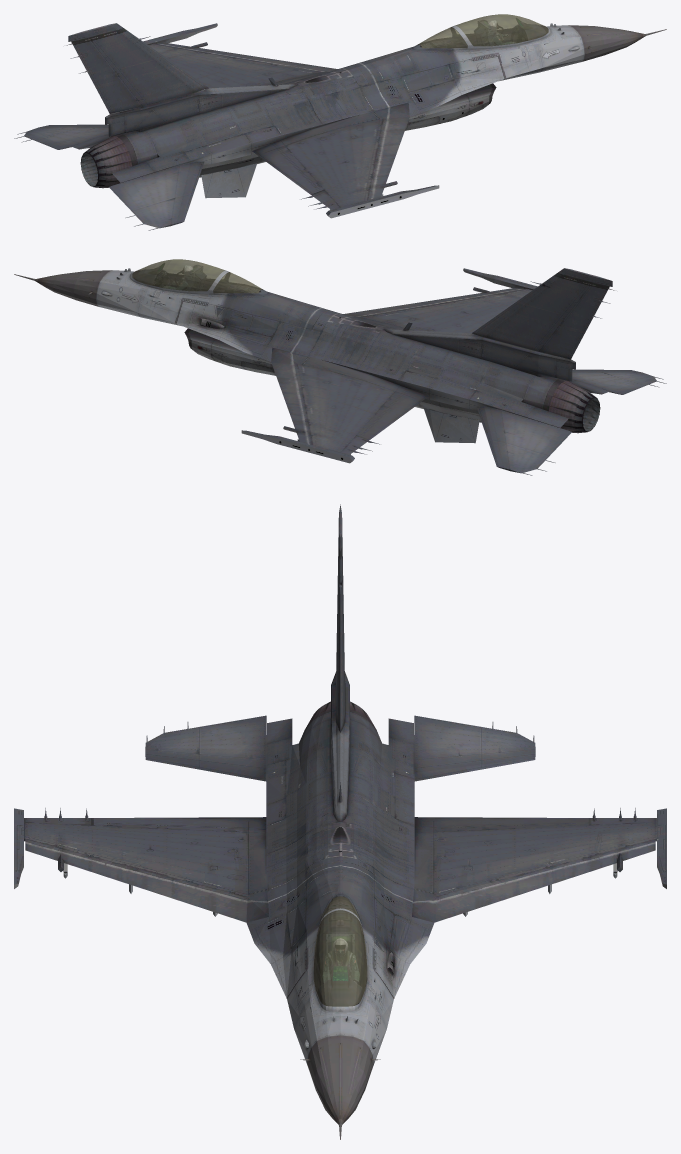
3 views of the same model, one above another, from view 1: azimuth 30°, elevation 25°; view 2: azimuth 150°, elevation 25°; view 3: azimuth 270°, elevation 25° (orthographic). The views are drawn at different scales.
Parts seen in each view (by area): view 1: Mesh_0, Mesh_7, Mesh_2, Mesh_18, Mesh_17, Mesh_14, Mesh_16, Mesh_8, Mesh_1, Mesh_15, Mesh_5, Mesh_11 (+1 smaller); view 2: Mesh_0, Mesh_16, Mesh_2, Mesh_18, Mesh_17, Mesh_15, Mesh_7, Mesh_9, Mesh_1, Mesh_14, Mesh_5, Mesh_12 (+1 smaller); view 3: Mesh_0, Mesh_7, Mesh_16, Mesh_2, Mesh_14, Mesh_15, Mesh_8, Mesh_9, Mesh_1.
Part boxes in pixels (x1=…): Mesh_0: x1=68, y1=18, x2=666, y2=218; Mesh_7: x1=109, y1=161, x2=204, y2=230; Mesh_2: x1=455, y1=14, x2=548, y2=46; Mesh_18: x1=66, y1=38, x2=139, y2=114; Mesh_17: x1=80, y1=136, x2=132, y2=188; Mesh_14: x1=368, y1=117, x2=409, y2=199; Mesh_16: x1=14, y1=124, x2=108, y2=149; Mesh_8: x1=252, y1=141, x2=324, y2=194; Mesh_1: x1=452, y1=25, x2=556, y2=57; Mesh_15: x1=154, y1=42, x2=337, y2=72; Mesh_5: x1=418, y1=27, x2=467, y2=48; Mesh_11: x1=112, y1=162, x2=154, y2=182; Mesh_0: x1=14, y1=263, x2=612, y2=463; Mesh_16: x1=476, y1=406, x2=571, y2=475; Mesh_2: x1=132, y1=259, x2=225, y2=291; Mesh_18: x1=541, y1=283, x2=614, y2=359; Mesh_17: x1=548, y1=381, x2=600, y2=433; Mesh_15: x1=271, y1=362, x2=312, y2=444; Mesh_7: x1=572, y1=369, x2=666, y2=394; Mesh_9: x1=356, y1=386, x2=428, y2=439; Mesh_1: x1=124, y1=270, x2=228, y2=302; Mesh_14: x1=343, y1=287, x2=526, y2=317; Mesh_5: x1=213, y1=272, x2=262, y2=293; Mesh_12: x1=526, y1=407, x2=568, y2=427; Mesh_0: x1=14, y1=504, x2=666, y2=1139; Mesh_7: x1=145, y1=715, x2=266, y2=781; Mesh_16: x1=414, y1=715, x2=535, y2=781; Mesh_2: x1=313, y1=910, x2=367, y2=1006; Mesh_14: x1=25, y1=839, x2=247, y2=922; Mesh_15: x1=433, y1=839, x2=655, y2=922; Mesh_8: x1=91, y1=817, x2=266, y2=832; Mesh_9: x1=414, y1=817, x2=589, y2=832; Mesh_1: x1=307, y1=909, x2=373, y2=1017.
Size of the model in its own units: 15.04 by 4.57 by 9.56.
Materials: 4 (4 with a texture image).
